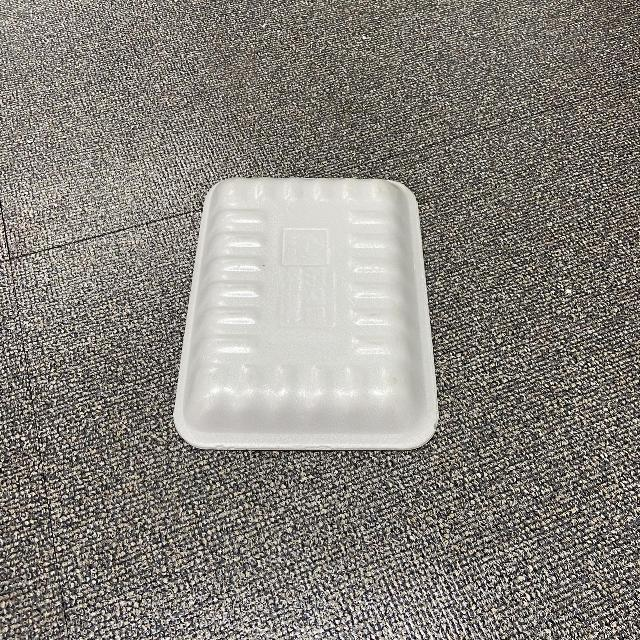Plastico descartable: (173, 177, 439, 453)
